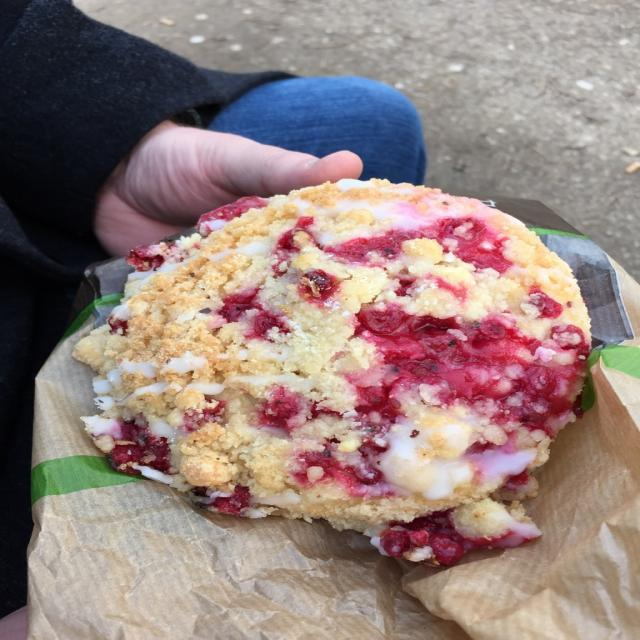Muffin: (71, 174, 597, 570)
